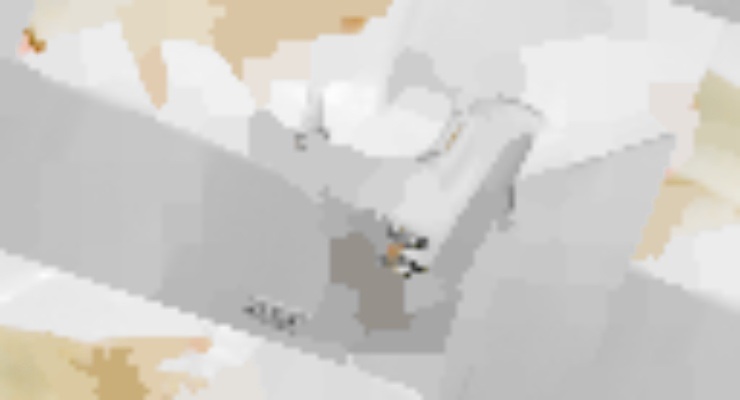washing hand: (32, 0, 541, 362)
